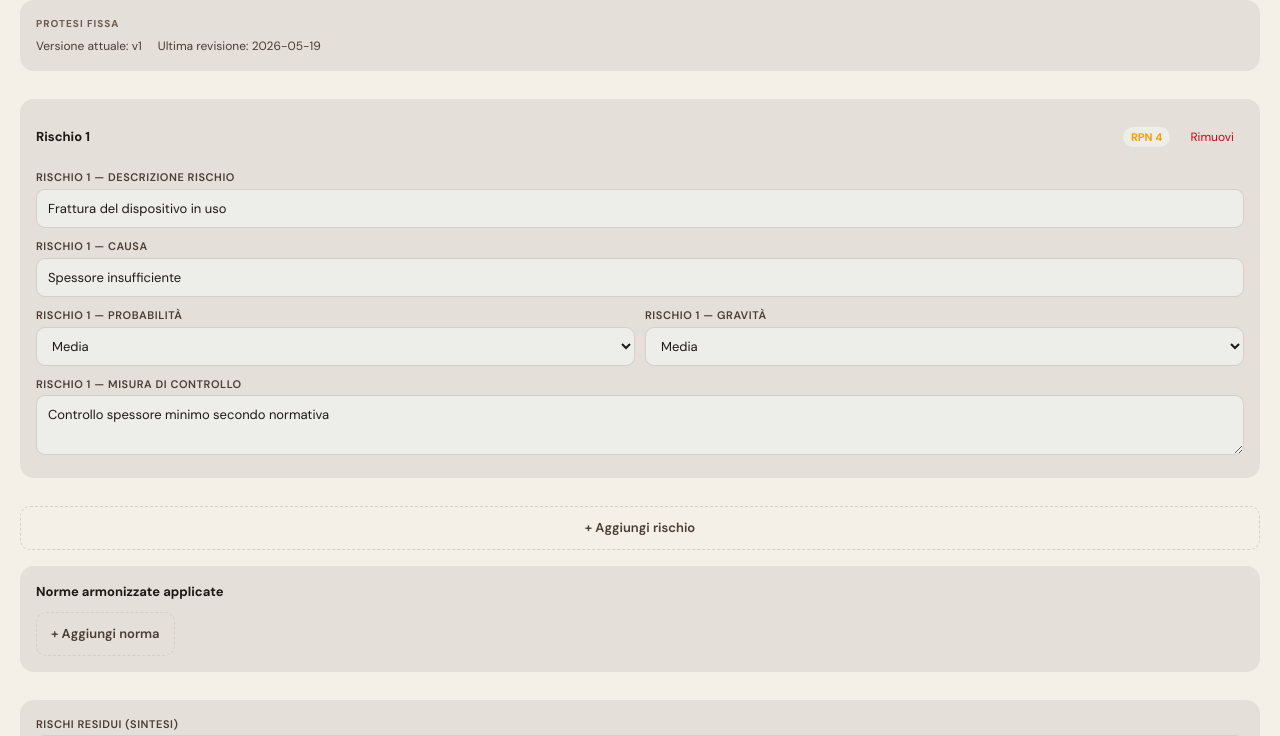
Test: RischiEditor › cambiare probabilita o gravita aggiorna RPN mostrato live
Select "Alta" in the dropdown labelled "Rischio 1 — Probabilità". click: (336, 346)
box: [36,326,635,366]
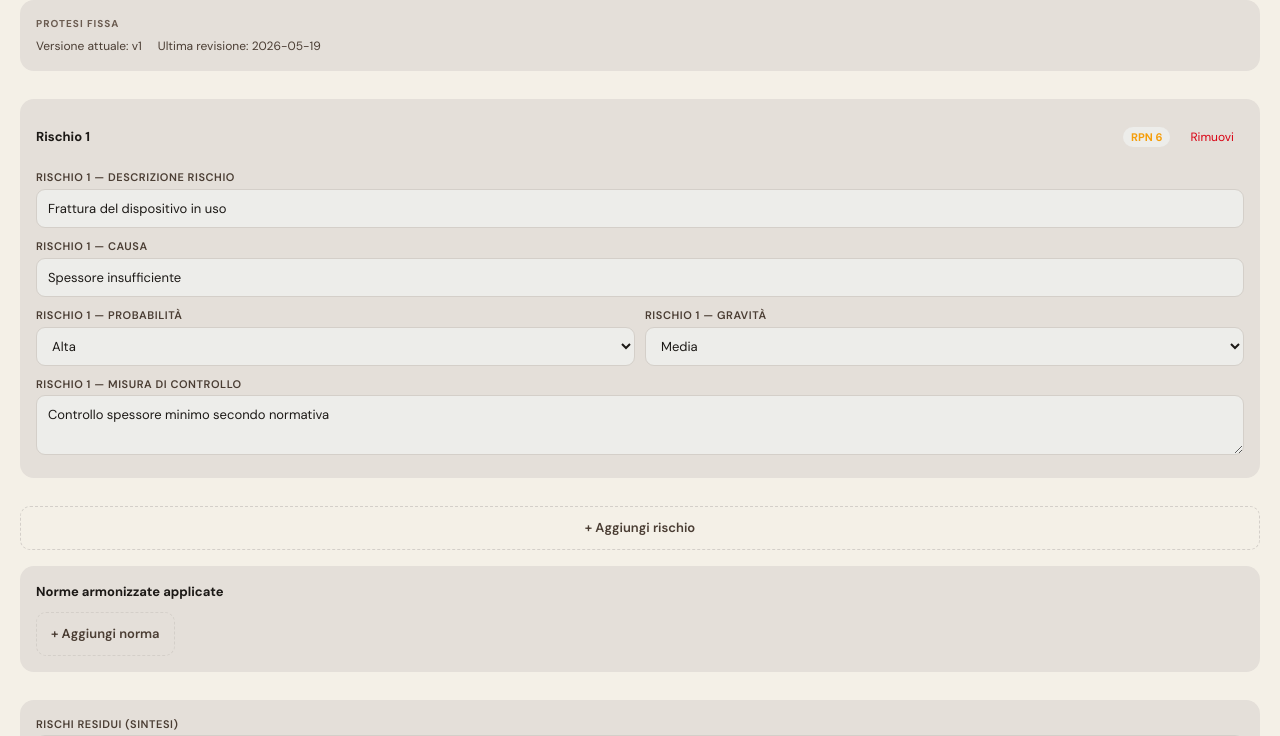
Now the text "RPN 6" is shown, box [1123,127,1170,147]
